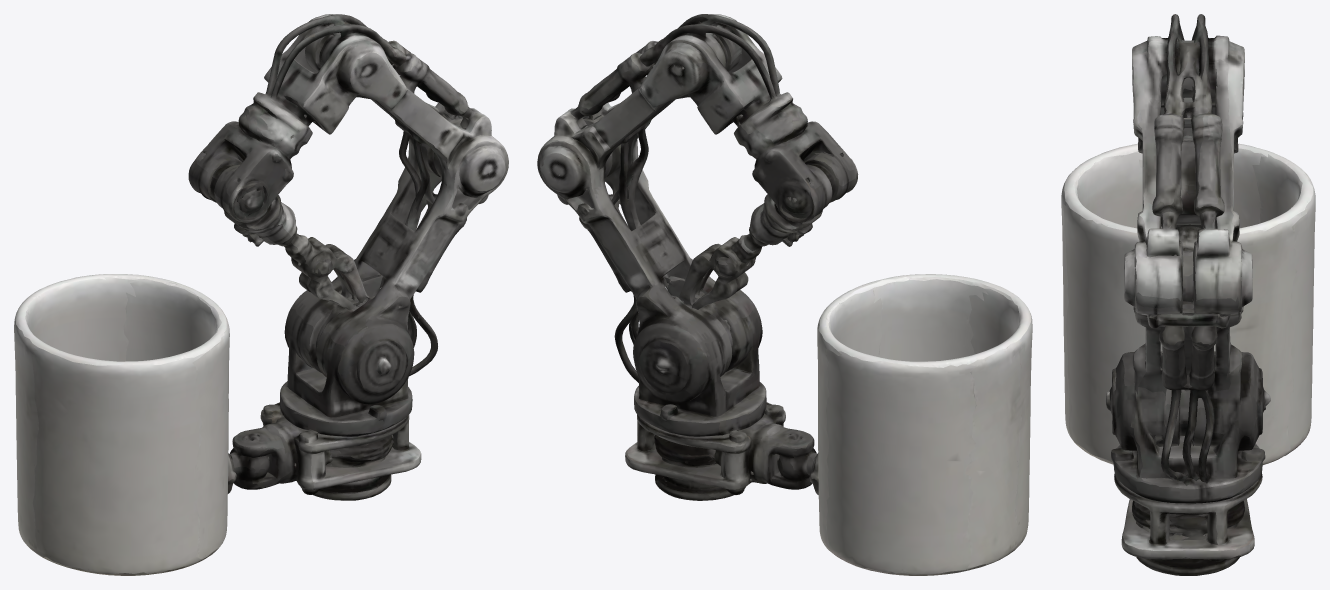
The picture shows the model from 3 angles, left to right: view 1: azimuth 30°, elevation 25°; view 2: azimuth 150°, elevation 25°; view 3: azimuth 270°, elevation 25°; orthographic projection. The views are drawn at different scales.
Parts seen in each view (by area): view 1: geometry_0; view 2: geometry_0; view 3: geometry_0.
Boxes of the visible parts, x1=… form: geometry_0: x1=14, y1=14, x2=508, y2=575; geometry_0: x1=537, y1=14, x2=1032, y2=575; geometry_0: x1=1061, y1=14, x2=1315, y2=575.
Size of the model in its own units: 0.3281 by 0.32 by 0.14.
1 material, 1 textured.
